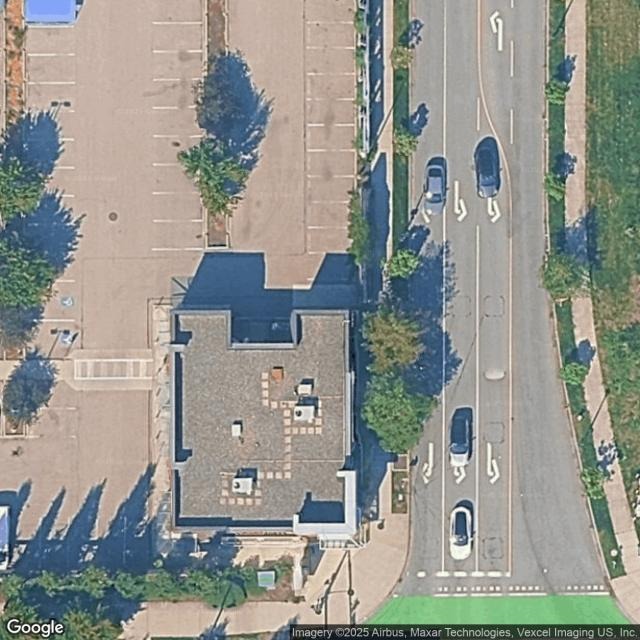lot_boundary: (1, 0, 358, 566)
